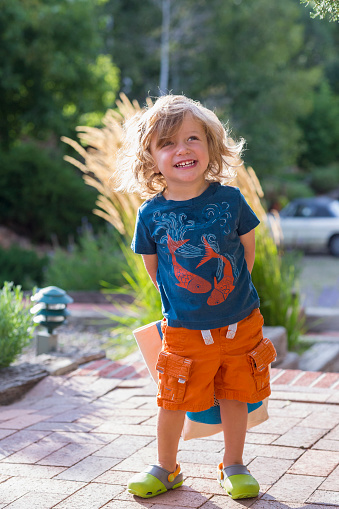em pe: (104, 95, 281, 503)
